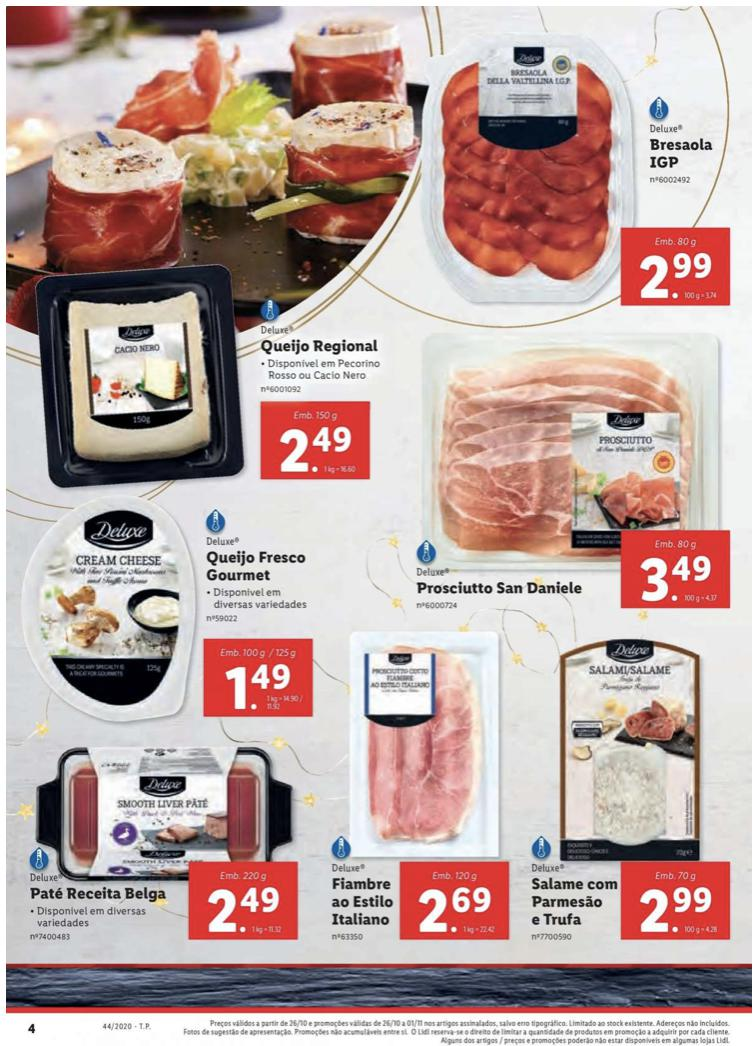name: (529, 875, 619, 927), (415, 577, 589, 601), (327, 874, 396, 932), (205, 546, 309, 581), (29, 884, 172, 907), (258, 337, 384, 357), (645, 135, 715, 171)
price: (635, 246, 718, 302), (275, 425, 362, 476), (639, 553, 715, 606), (207, 884, 281, 937), (418, 887, 494, 935), (222, 661, 293, 712), (639, 885, 714, 933)
product: (405, 27, 741, 346), (405, 346, 739, 615), (24, 263, 401, 494), (14, 494, 323, 724), (14, 736, 313, 949), (531, 642, 737, 948), (322, 627, 515, 941)
